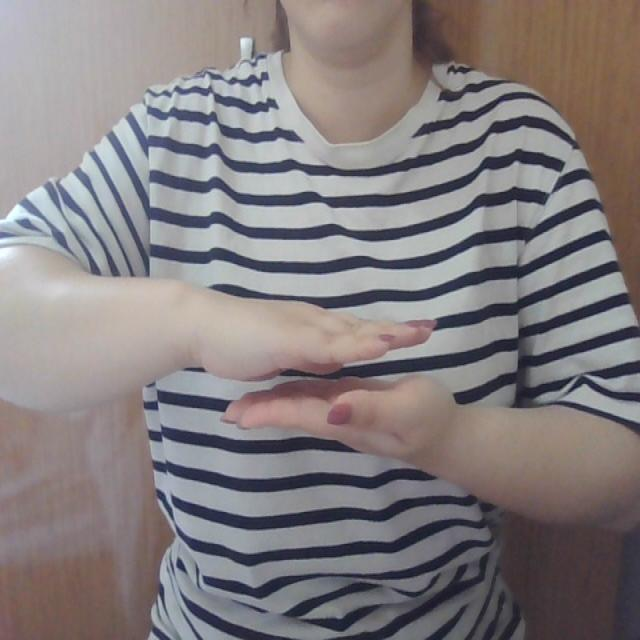Arkadas: (156, 277, 514, 446)
